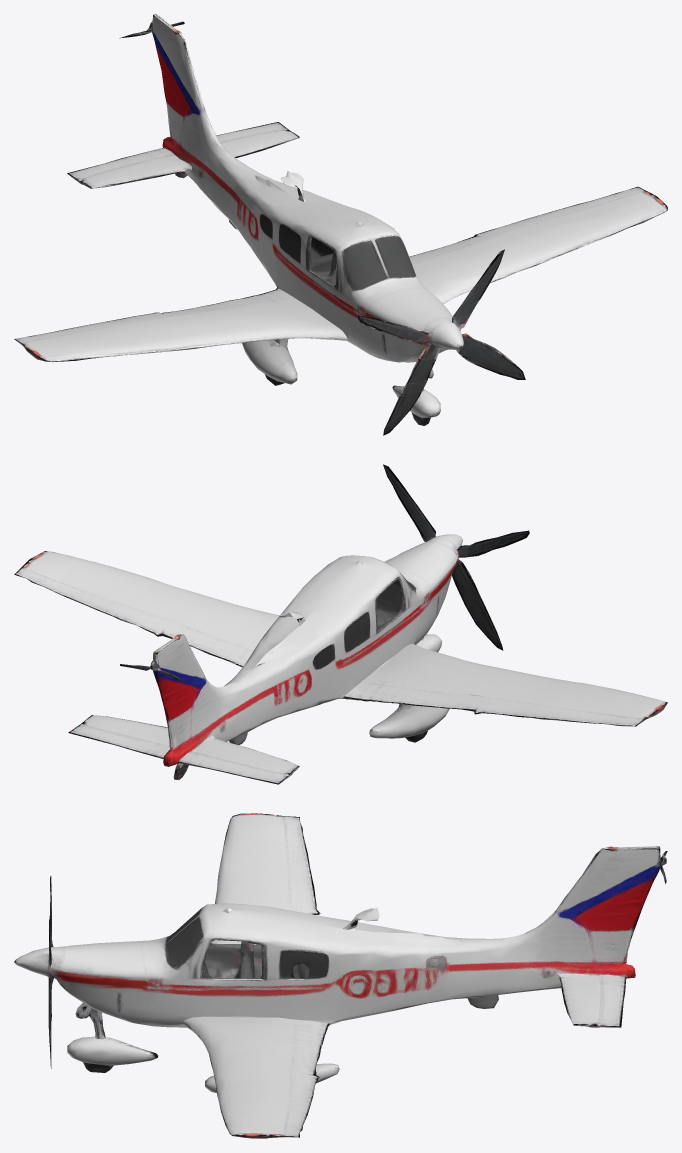
The picture shows the model from 3 angles, top to bottom: view 1: azimuth 30°, elevation 25°; view 2: azimuth 150°, elevation 25°; view 3: azimuth 270°, elevation 25°; orthographic projection. The views are drawn at different scales.
Visible parts, largest first — view 1: world_0; view 2: world_0; view 3: world_0.
Boxes of the visible parts, x1=… form: world_0: x1=14, y1=14, x2=667, y2=435; world_0: x1=14, y1=464, x2=667, y2=784; world_0: x1=14, y1=813, x2=667, y2=1138.
Size of the model in its own units: 0.9999 by 0.3265 by 0.8562.
1 material, 1 textured.
